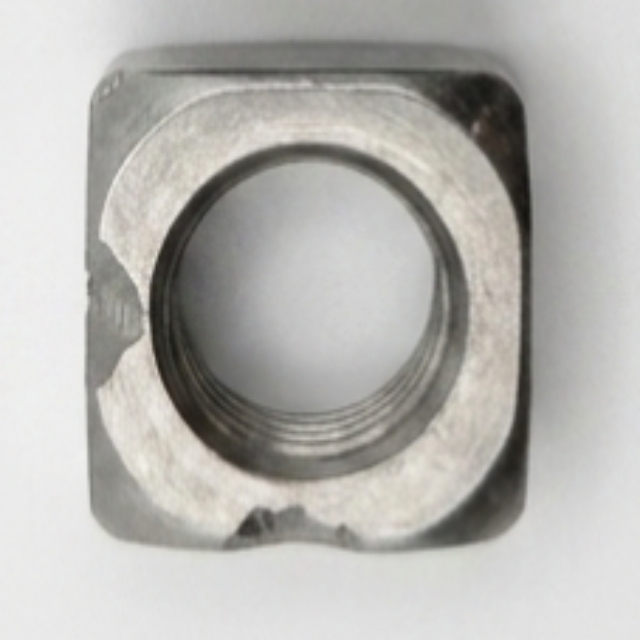defect: (81, 223, 146, 403), (222, 504, 369, 565)
